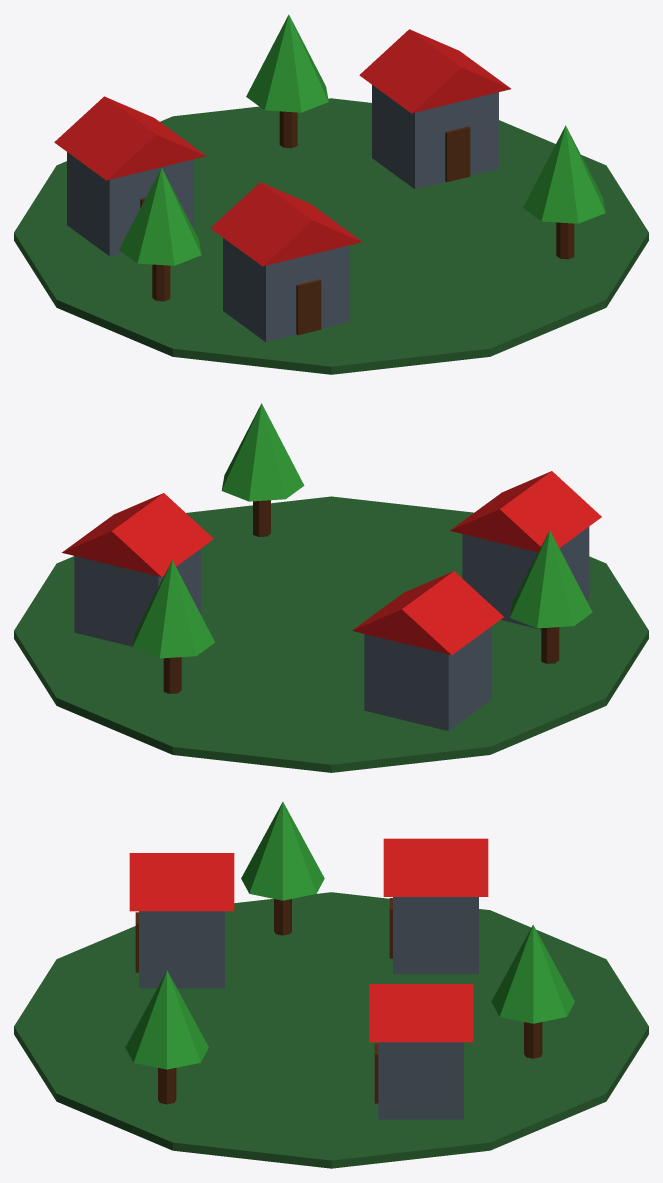
Rendered from village_square.obj.
3 renders of one model, top to bottom at view 1: azimuth 30°, elevation 25°; view 2: azimuth 150°, elevation 25°; view 3: azimuth 270°, elevation 25°, orthographic.
Visible parts, largest first — view 1: models/environment/village_square.obj; view 2: models/environment/village_square.obj; view 3: models/environment/village_square.obj.
Part boxes in pixels (x1,y1,x2,y2): models/environment/village_square.obj: [14, 14, 648, 374]; models/environment/village_square.obj: [14, 403, 648, 772]; models/environment/village_square.obj: [14, 802, 648, 1168].
Bounding box in the file's own units: 17 × 4.09 × 17.
